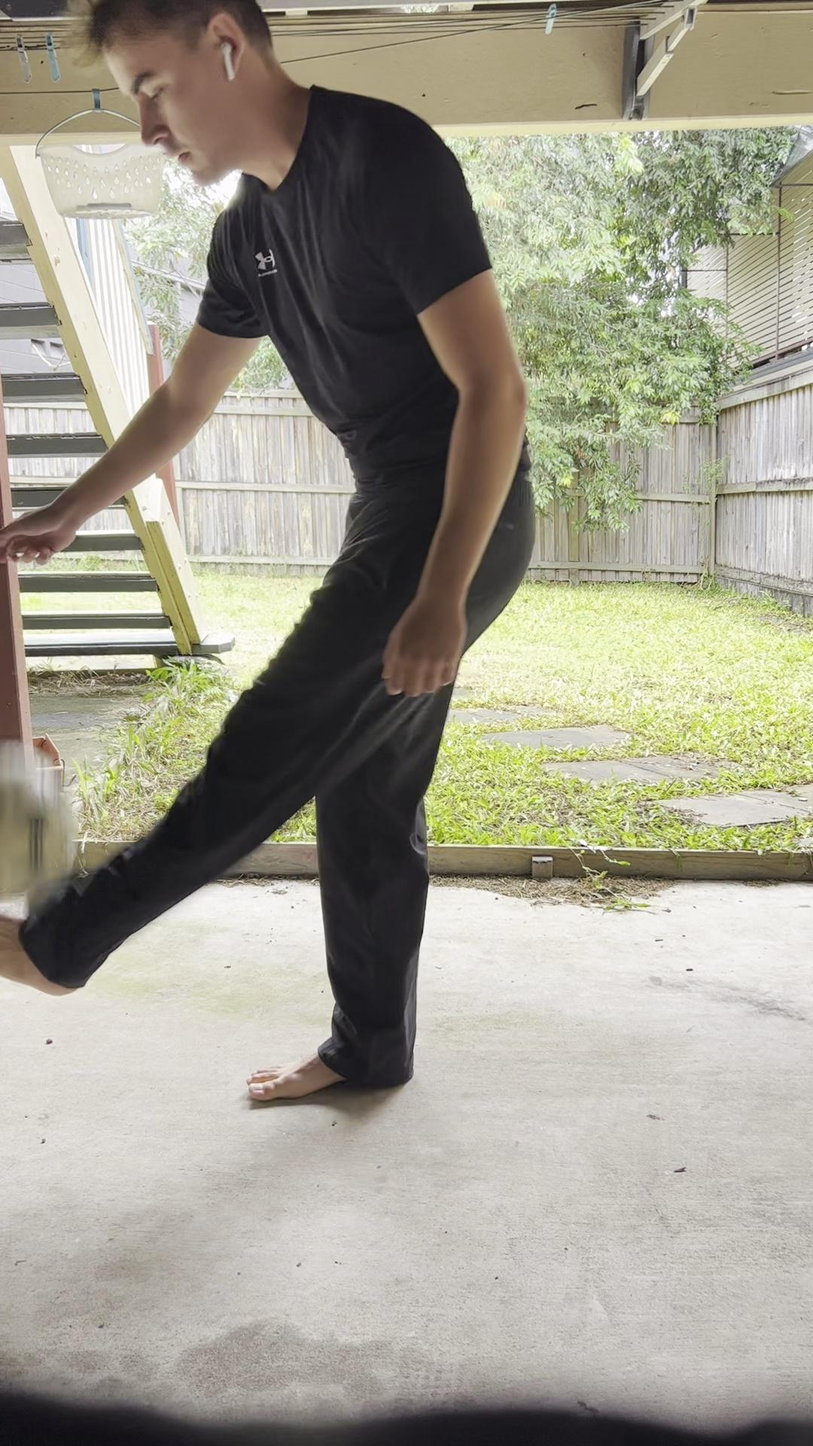ball: (0, 753, 72, 902)
foot: (0, 911, 77, 995), (244, 1044, 348, 1102)
person: (0, 0, 541, 1103)
